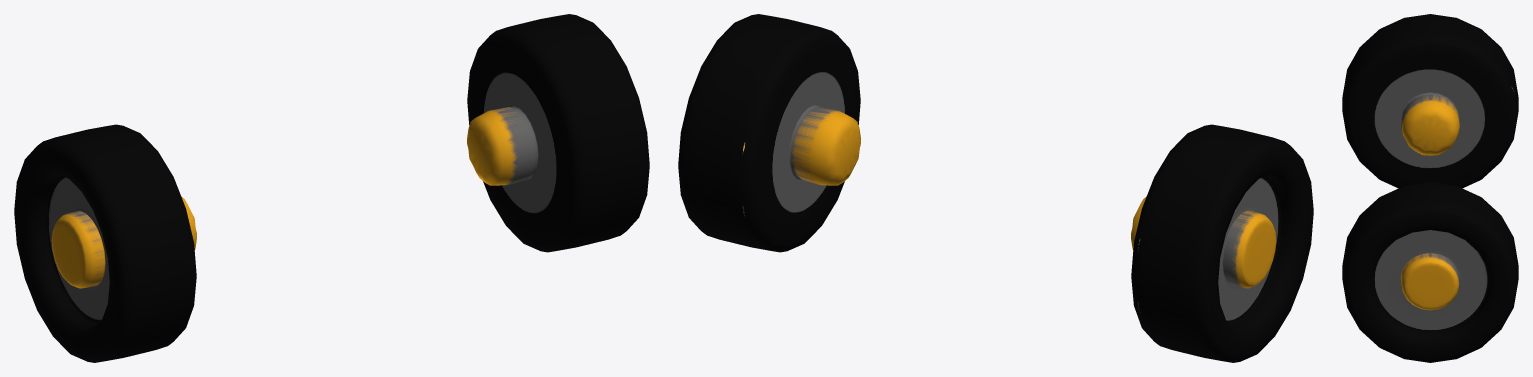
File: texturetest.fbx
3 renders of one model, left to right at view 1: azimuth 30°, elevation 25°; view 2: azimuth 150°, elevation 25°; view 3: azimuth 270°, elevation 25°, orthographic. The views are drawn at different scales.
Visible parts, largest first — view 1: frontwheels; view 2: frontwheels; view 3: frontwheels.
Part boxes in pixels (x1,y1,x2,y2): frontwheels: [14, 14, 649, 362]; frontwheels: [678, 14, 1313, 362]; frontwheels: [1342, 14, 1518, 362].
Bounding box in the file's own units: 156 × 59.38 × 59.3.
